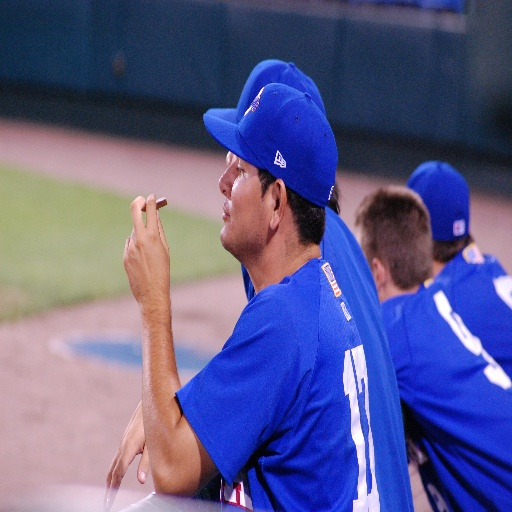hand: (121, 194, 174, 337), (101, 399, 150, 511)
